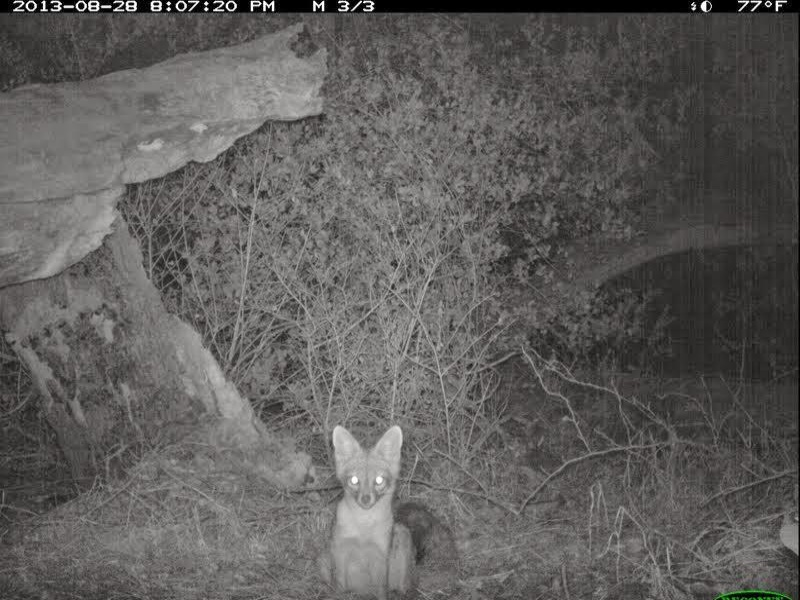fox: (316, 423, 451, 598)
